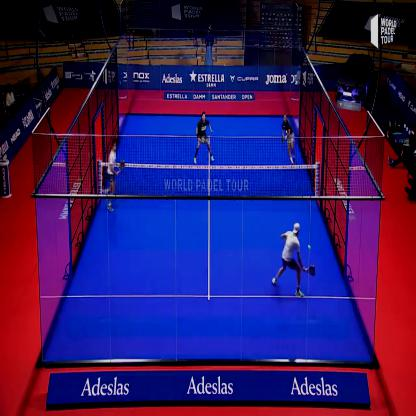ball: (307, 242, 313, 256)
